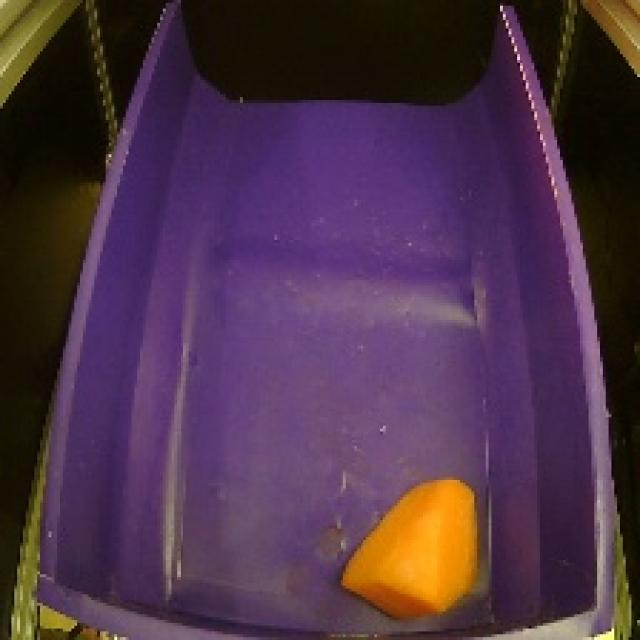carrots: (338, 466, 490, 628)
